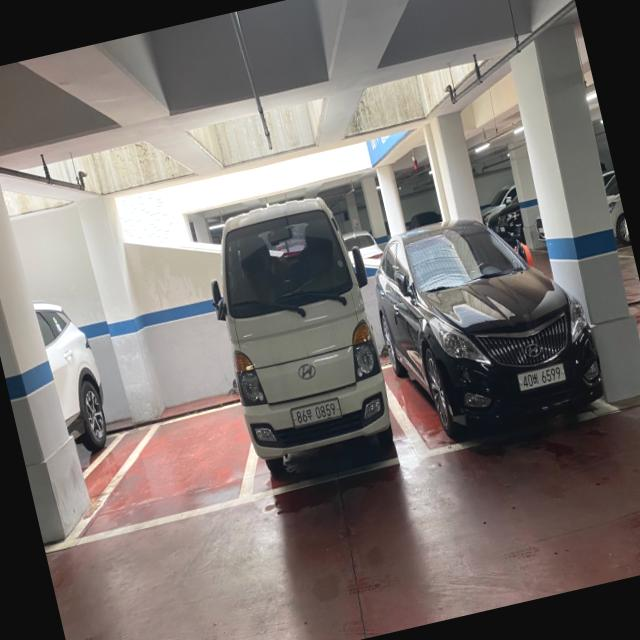car: (370, 200, 604, 458), (200, 200, 404, 490)
free: (75, 396, 266, 534)
